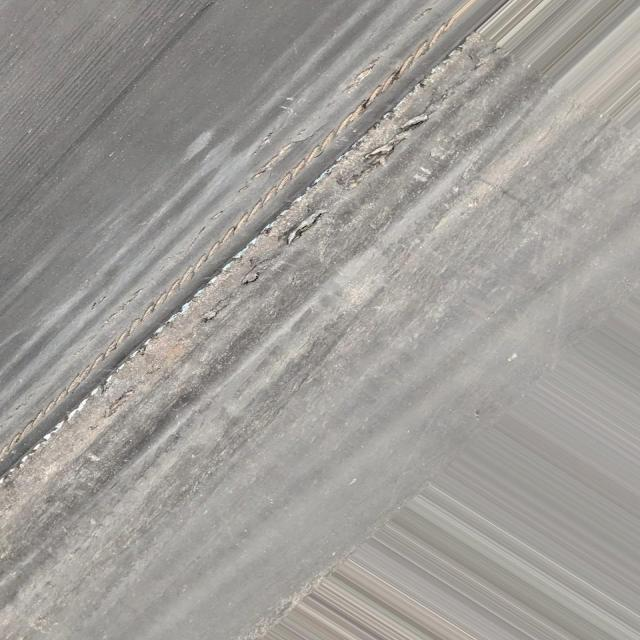Wear: (0, 33, 486, 514)
